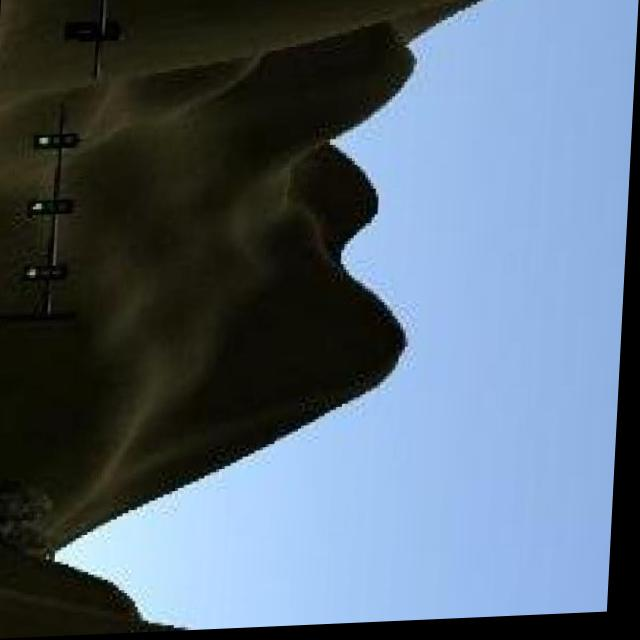green light: (19, 263, 72, 285), (32, 129, 81, 151), (29, 197, 78, 219)
